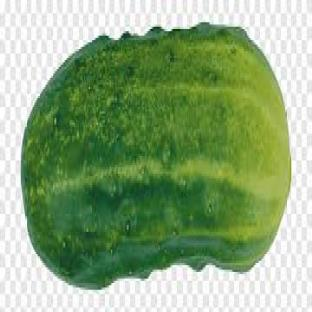Cucumber: (22, 25, 290, 287)
